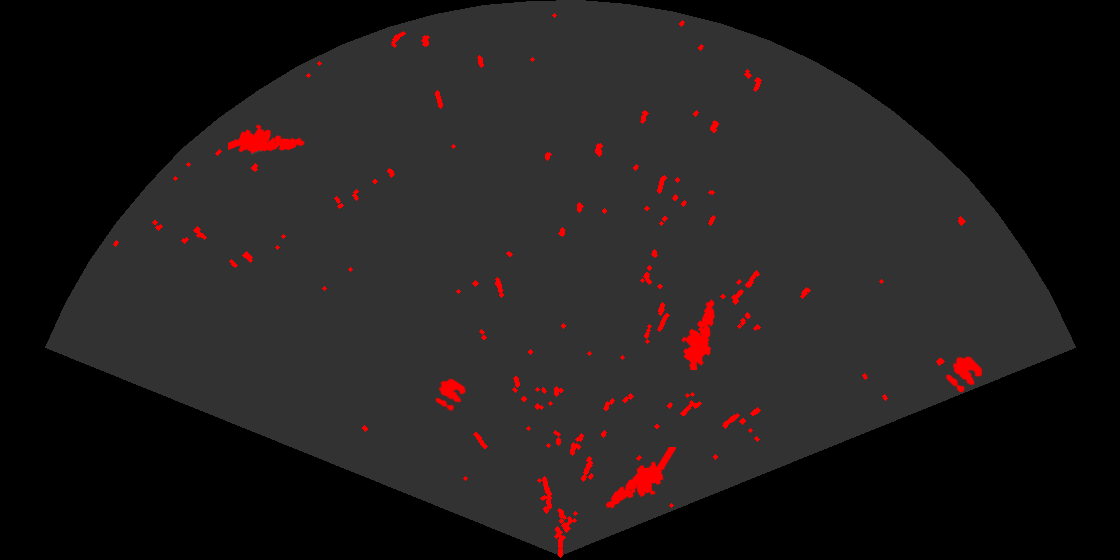ball: (944, 355, 984, 394), (434, 377, 468, 413)
frogman: (604, 447, 676, 510), (680, 298, 716, 370), (228, 123, 306, 155)
